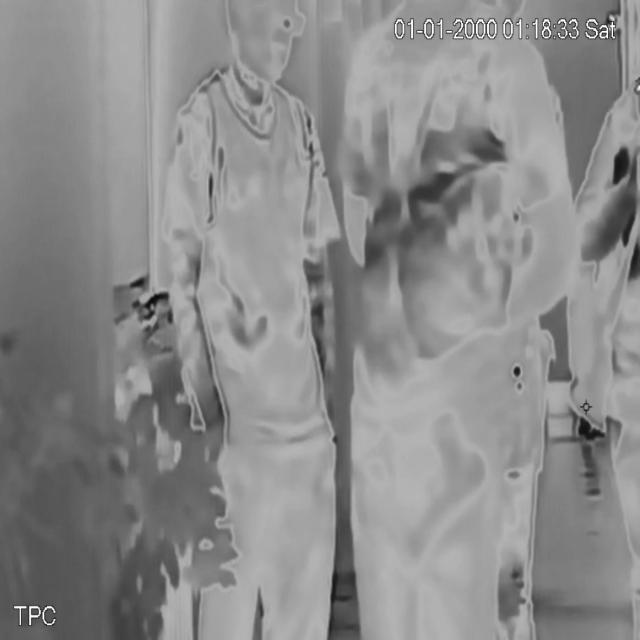Weapon: (405, 406, 493, 567)
